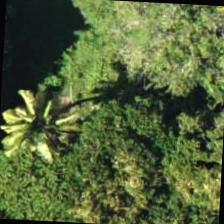Kelapa_Sawit: (1, 89, 96, 184)
